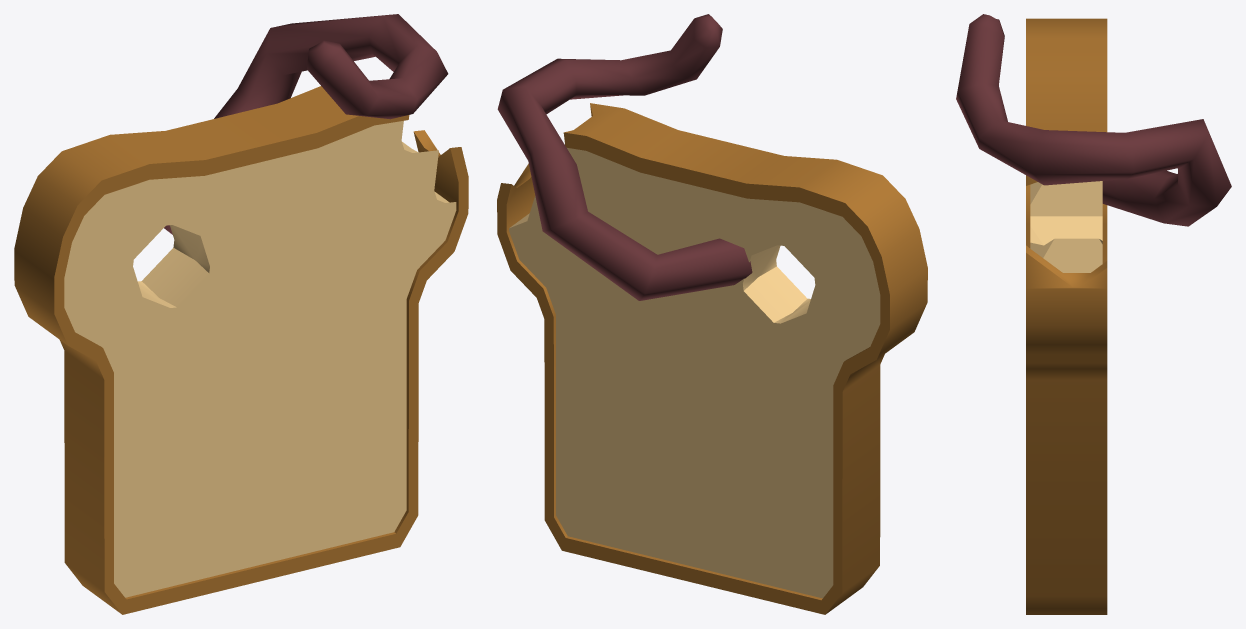
Rendered from toast_worm.fbx.
3 views of the same model, side by side, from view 1: azimuth 30°, elevation 25°; view 2: azimuth 150°, elevation 25°; view 3: azimuth 270°, elevation 25° (orthographic). The views are drawn at different scales.
Parts seen in each view (by area): view 1: Indside, Outside, Worm; view 2: Indside, Outside, Worm; view 3: Outside, Worm, Indside.
Boxes of the visible parts, x1,y1,x2,y2 form: Indside: (64,120,456,597); Outside: (14,86,468,614); Worm: (164,14,448,234); Indside: (509,148,880,598); Outside: (497,103,927,614); Worm: (497,14,752,300); Outside: (1026,18,1107,614); Worm: (956,14,1231,226); Indside: (1030,181,1102,272).
Size of the model in its own units: 94.46 by 118 by 53.46.
